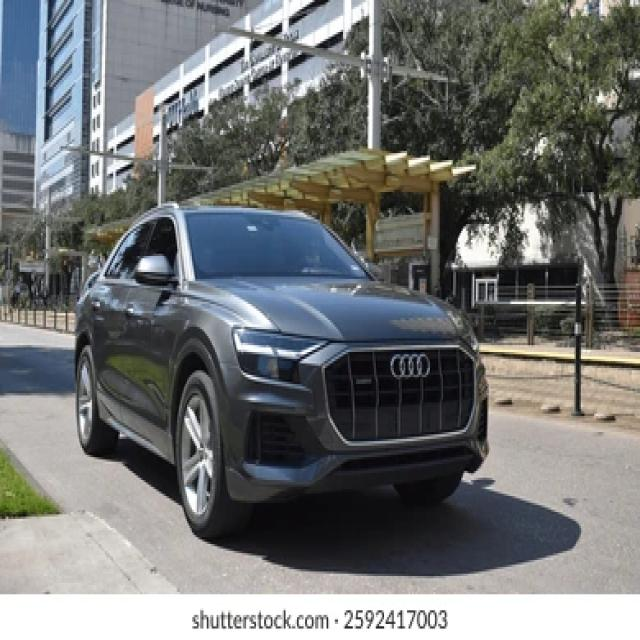audi: (388, 353, 433, 379)
